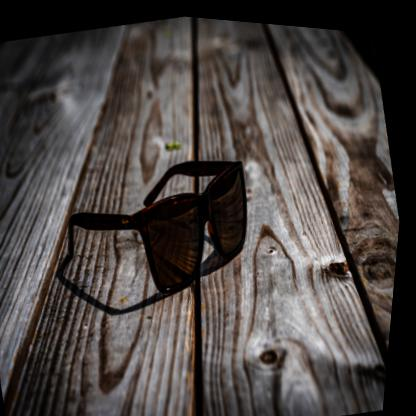Spectacles: (50, 133, 277, 319)
